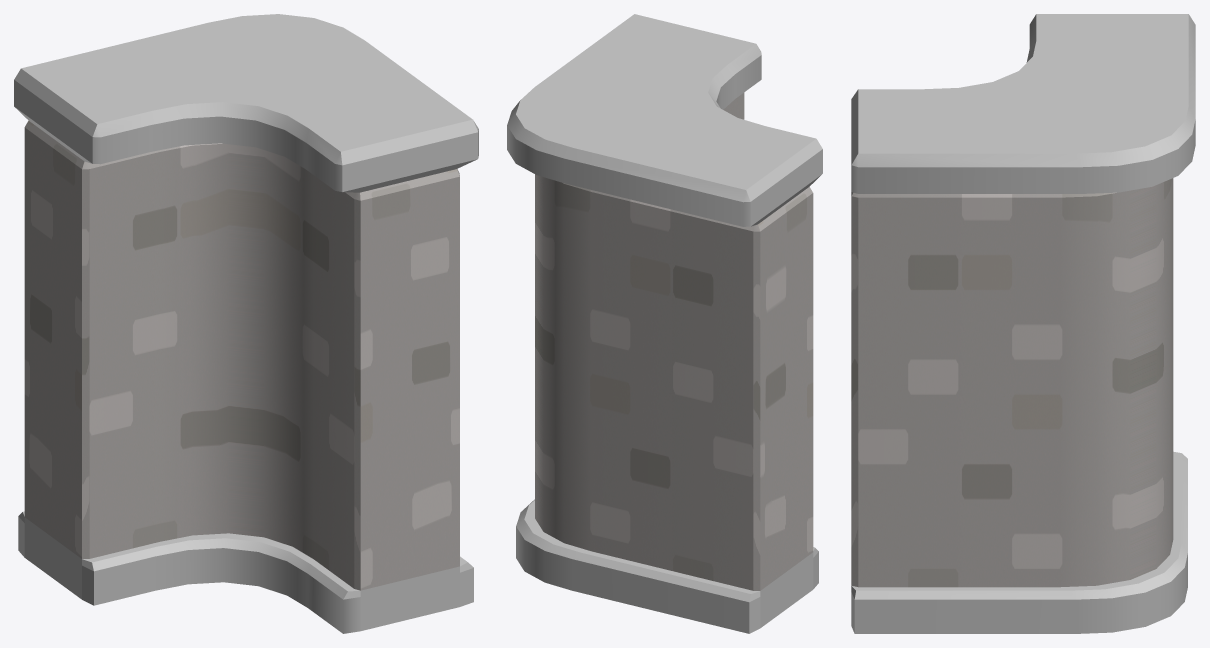
Rendered from HighWall_2_2.fbx.
3 views of the same model, side by side, from view 1: azimuth 30°, elevation 25°; view 2: azimuth 150°, elevation 25°; view 3: azimuth 270°, elevation 25° (orthographic). The views are drawn at different scales.
Visible parts, largest first — view 1: HighWall_2_2; view 2: HighWall_2_2; view 3: HighWall_2_2.
Part boxes in pixels (x1,y1,x2,y2): HighWall_2_2: (14,14,478,633); HighWall_2_2: (507,14,822,633); HighWall_2_2: (851,14,1195,633).
Size of the model in its own units: 132 by 203 by 132.
